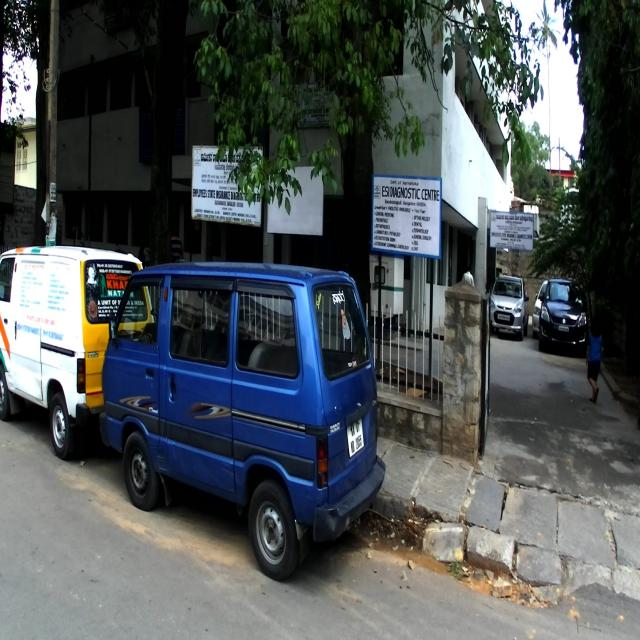car: (99, 266, 386, 581), (0, 244, 144, 461), (488, 272, 529, 340)
